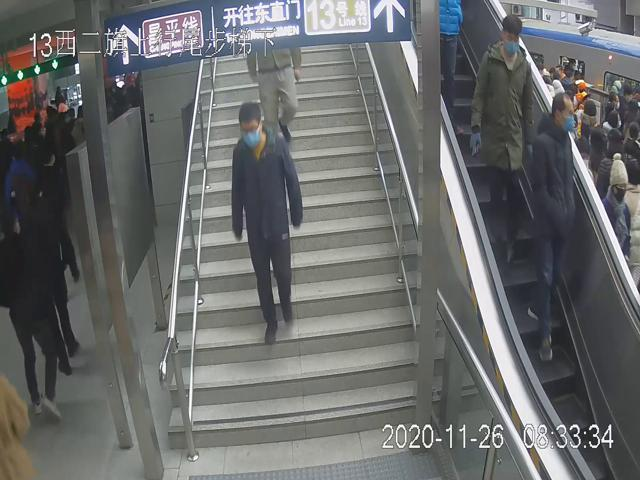person: (229, 98, 304, 349), (469, 12, 532, 256), (531, 92, 581, 364)
